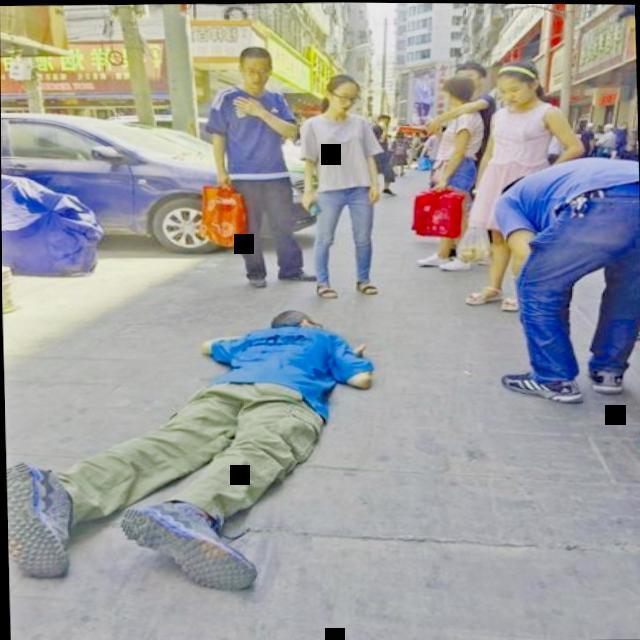Fall-Detected: (3, 290, 385, 605)
